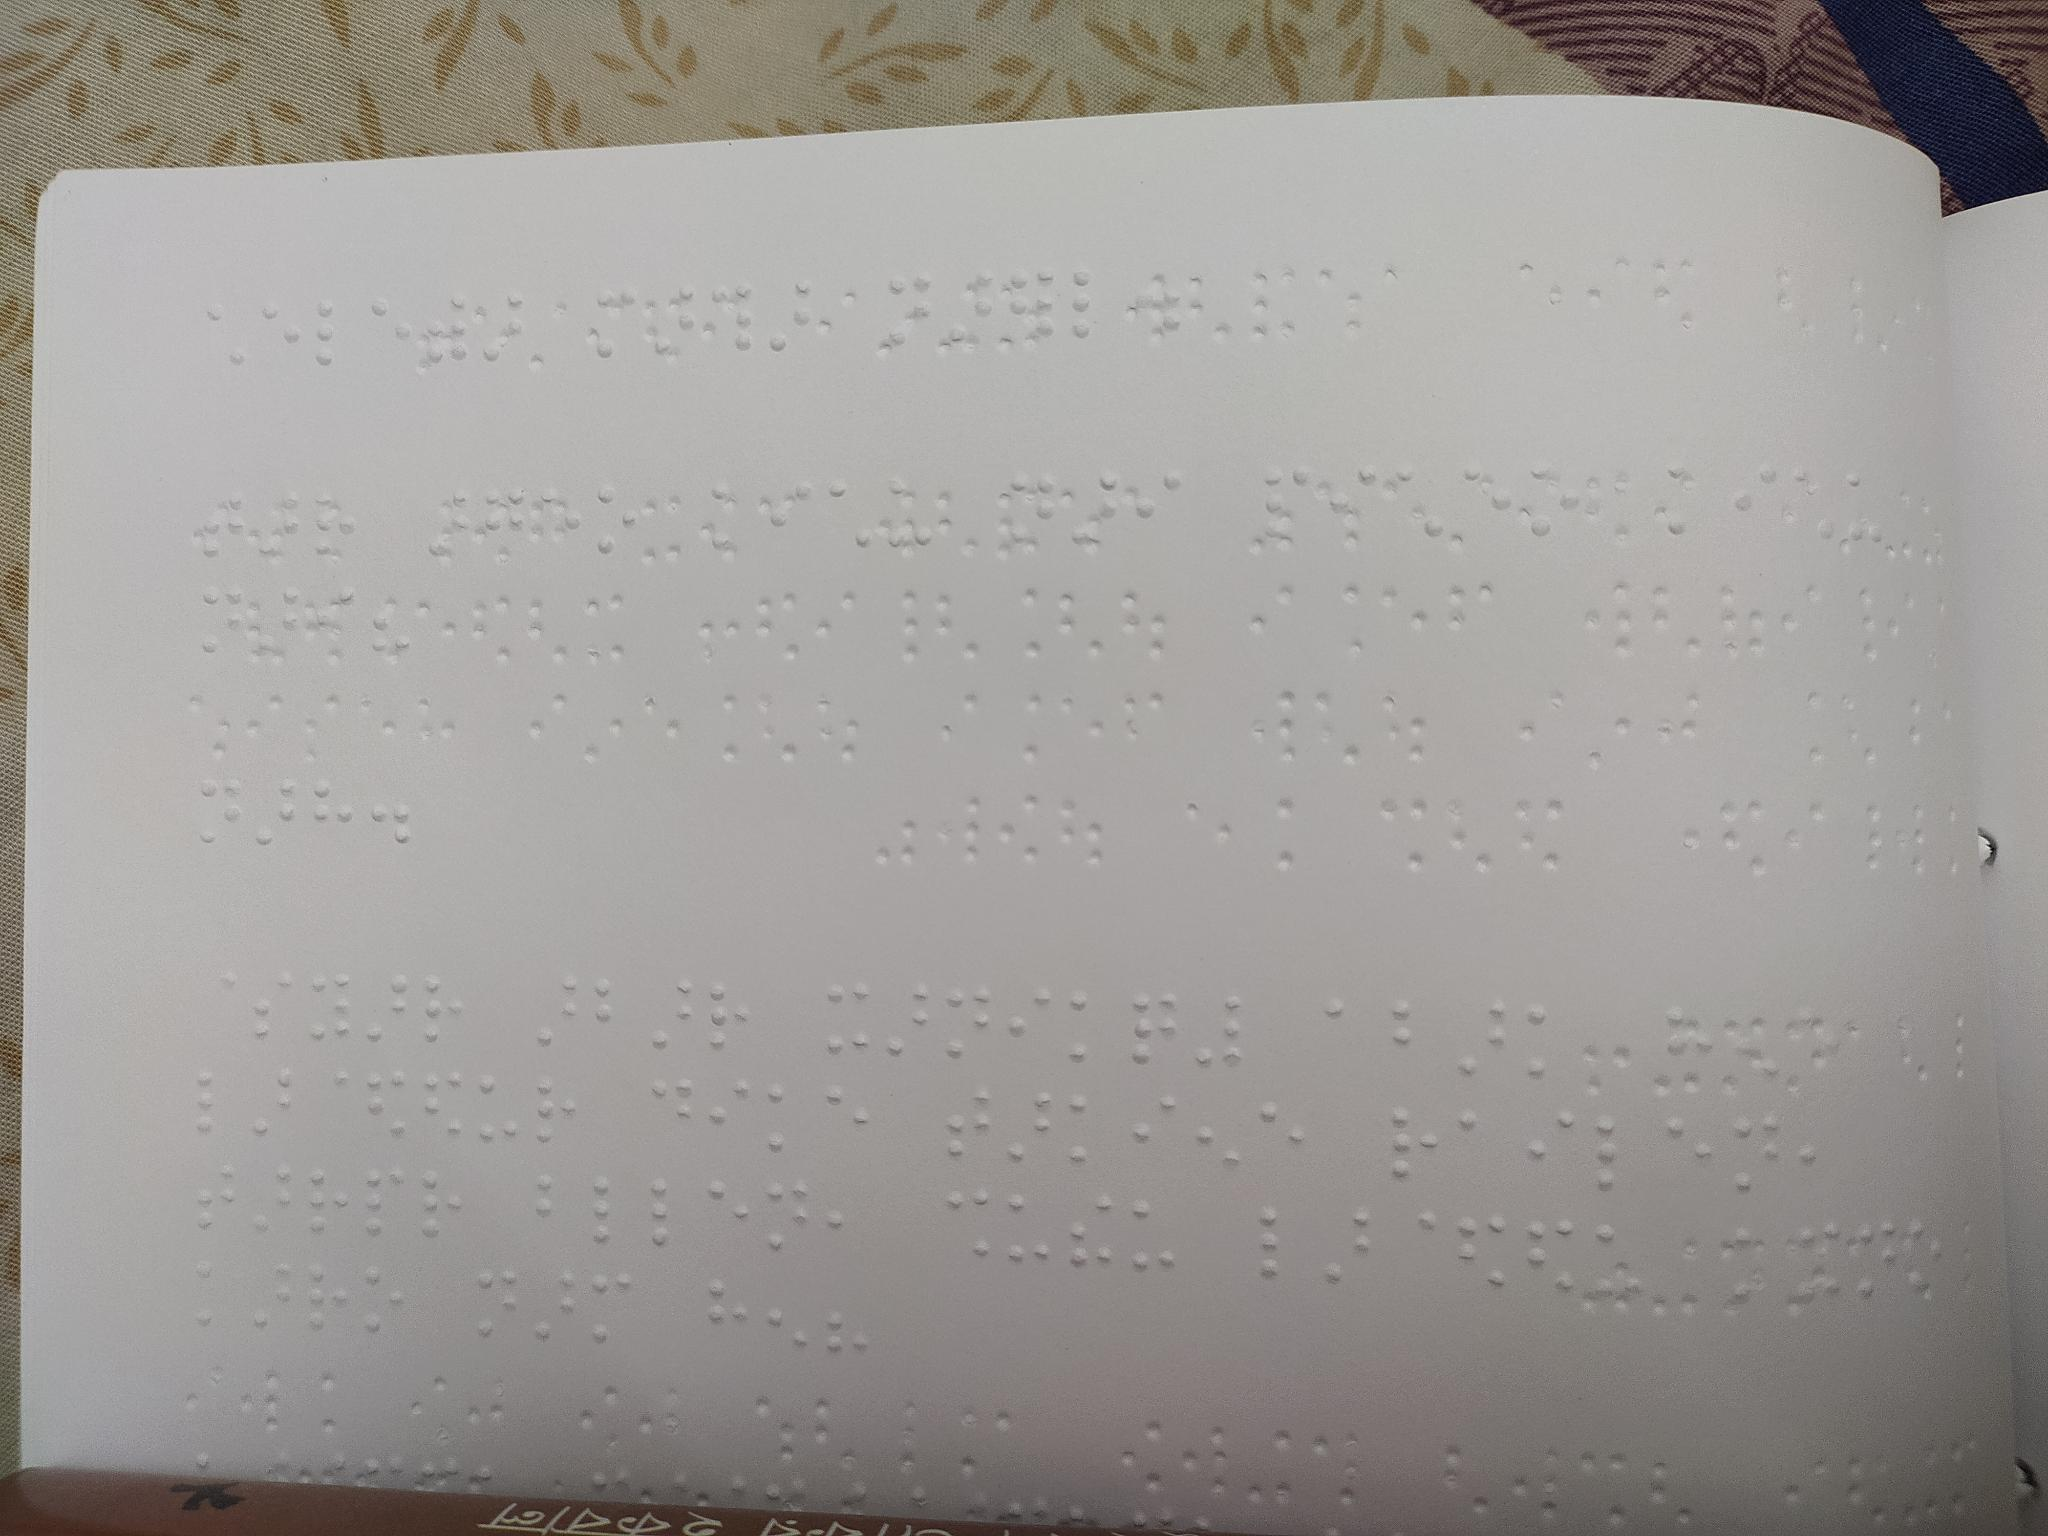a: (244, 1158, 304, 1250), (940, 264, 998, 356), (1456, 994, 1514, 1086), (762, 274, 822, 362), (476, 286, 532, 376), (424, 484, 480, 574), (1324, 1201, 1380, 1291), (652, 282, 712, 362), (246, 1255, 300, 1343), (1002, 1085, 1062, 1163), (528, 1258, 580, 1348), (250, 768, 304, 854), (358, 969, 414, 1051), (1068, 472, 1122, 554), (252, 1058, 302, 1146), (886, 982, 940, 1058), (535, 967, 583, 1051), (256, 584, 306, 664), (652, 970, 700, 1052), (258, 484, 304, 562)
aw: (1316, 988, 1374, 1072)
b: (1379, 990, 1449, 1074), (526, 1171, 580, 1249), (592, 971, 644, 1045)
chh: (192, 288, 258, 378), (1386, 463, 1448, 554), (1790, 461, 1842, 550), (822, 478, 878, 554)
d: (1446, 1205, 1516, 1295), (1522, 1212, 1582, 1298), (411, 1068, 471, 1142), (363, 1067, 415, 1149), (647, 1074, 701, 1146)
dh: (1062, 1186, 1122, 1276)
e: (352, 286, 420, 370), (1452, 465, 1518, 551), (1652, 1112, 1718, 1198), (812, 1076, 878, 1156), (1250, 1092, 1310, 1180), (250, 286, 310, 370), (1788, 1000, 1842, 1090), (707, 1174, 757, 1260), (538, 484, 588, 556)
g: (472, 484, 534, 562)
h: (1661, 1000, 1723, 1092), (309, 774, 367, 858), (704, 1272, 766, 1348)
i: (1514, 1106, 1586, 1190), (1716, 460, 1786, 544), (1118, 1092, 1186, 1168), (1323, 456, 1379, 546), (994, 978, 1054, 1054), (1130, 467, 1188, 544), (306, 582, 362, 660), (763, 476, 815, 556), (710, 1075, 754, 1155)
j: (304, 970, 360, 1046)
k: (1520, 991, 1576, 1093), (1056, 978, 1112, 1070), (1723, 1220, 1781, 1306), (1654, 462, 1716, 542), (760, 1066, 812, 1160), (706, 480, 754, 560), (190, 1256, 240, 1332), (1068, 1090, 1114, 1162)
kh: (1118, 980, 1180, 1072), (818, 978, 884, 1060), (1791, 1220, 1845, 1316)
l: (1250, 1196, 1314, 1290), (1059, 258, 1115, 350), (633, 1170, 695, 1252), (182, 1064, 242, 1146), (1592, 1108, 1644, 1202), (303, 290, 363, 370), (583, 1173, 637, 1251)
m: (588, 280, 650, 380), (587, 1262, 643, 1350)
n: (1717, 1113, 1791, 1199), (871, 267, 939, 357), (938, 978, 1000, 1064), (1002, 468, 1062, 554), (762, 1169, 818, 1259), (195, 584, 257, 662), (188, 772, 248, 852), (1190, 986, 1248, 1068), (472, 1256, 524, 1346), (1852, 1214, 1896, 1298)
o: (1516, 462, 1582, 546), (588, 483, 642, 561), (359, 1253, 409, 1335), (1904, 1214, 1952, 1296)
p: (1260, 464, 1316, 546), (361, 1163, 415, 1247)
r: (1383, 1100, 1447, 1196), (1003, 258, 1063, 352), (304, 1160, 362, 1256), (302, 1251, 356, 1349), (310, 479, 358, 571), (534, 1073, 590, 1151), (701, 978, 759, 1052), (416, 971, 470, 1049), (419, 1167, 471, 1243)
s: (248, 969, 298, 1047)
sh: (941, 1184, 999, 1264)
t: (930, 1080, 998, 1172), (183, 1154, 243, 1248), (420, 292, 474, 374), (196, 482, 248, 564)
th: (708, 274, 768, 364)
u: (1120, 1194, 1184, 1284), (1586, 1220, 1650, 1306), (1000, 1179, 1058, 1269), (474, 1073, 524, 1157), (1837, 470, 1891, 546), (886, 476, 938, 552)
y: (1184, 1086, 1254, 1192), (1724, 1002, 1786, 1096), (758, 1272, 816, 1356)
